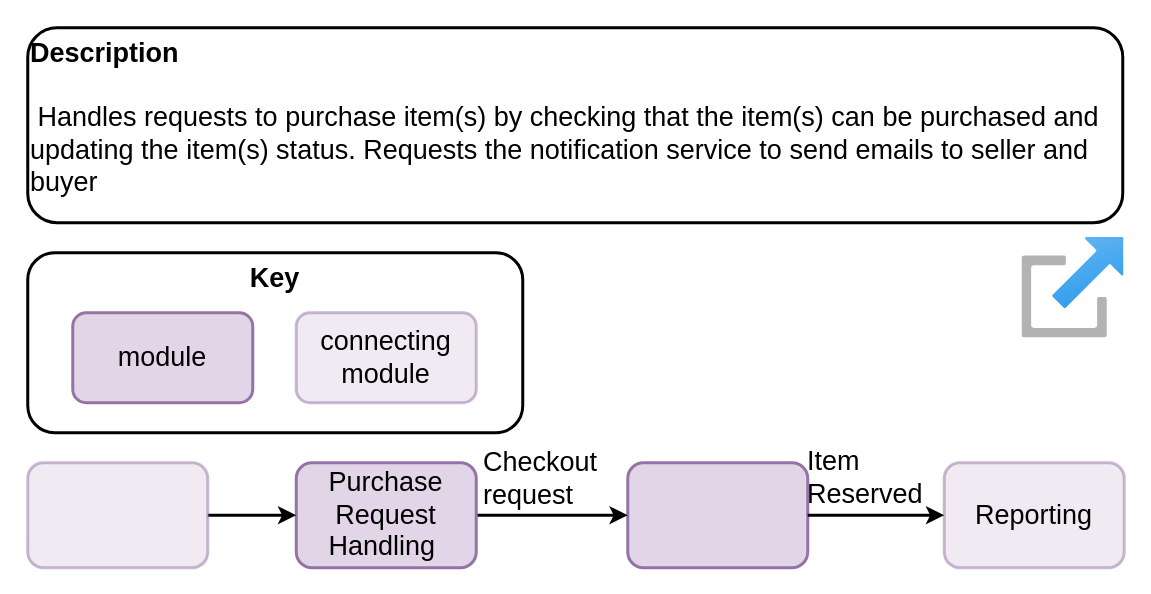
Image size: 1151x594. Some labels were removed from this diagram. Each missing label, with the box of its shape:
Parent: (1022, 237, 1124, 338)
Pre-Purchase Checks: (626, 460, 808, 568)
User Interface: (26, 460, 208, 568)
